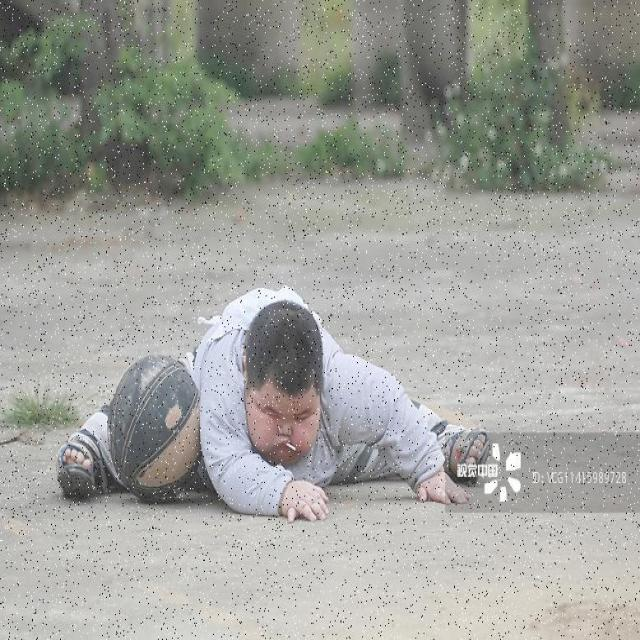fall: (95, 288, 474, 509)
